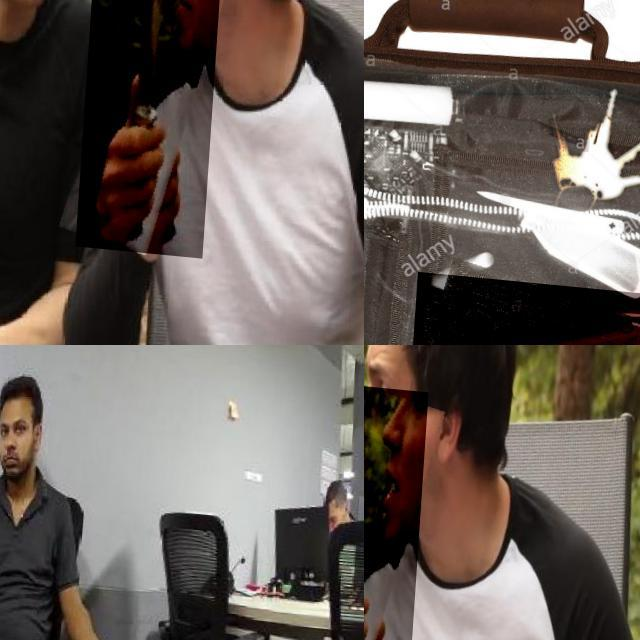-: (82, 0, 227, 250), (364, 374, 437, 640)
gun-knife-thesis - v11 Yolov5 augmented: (410, 266, 640, 345)
